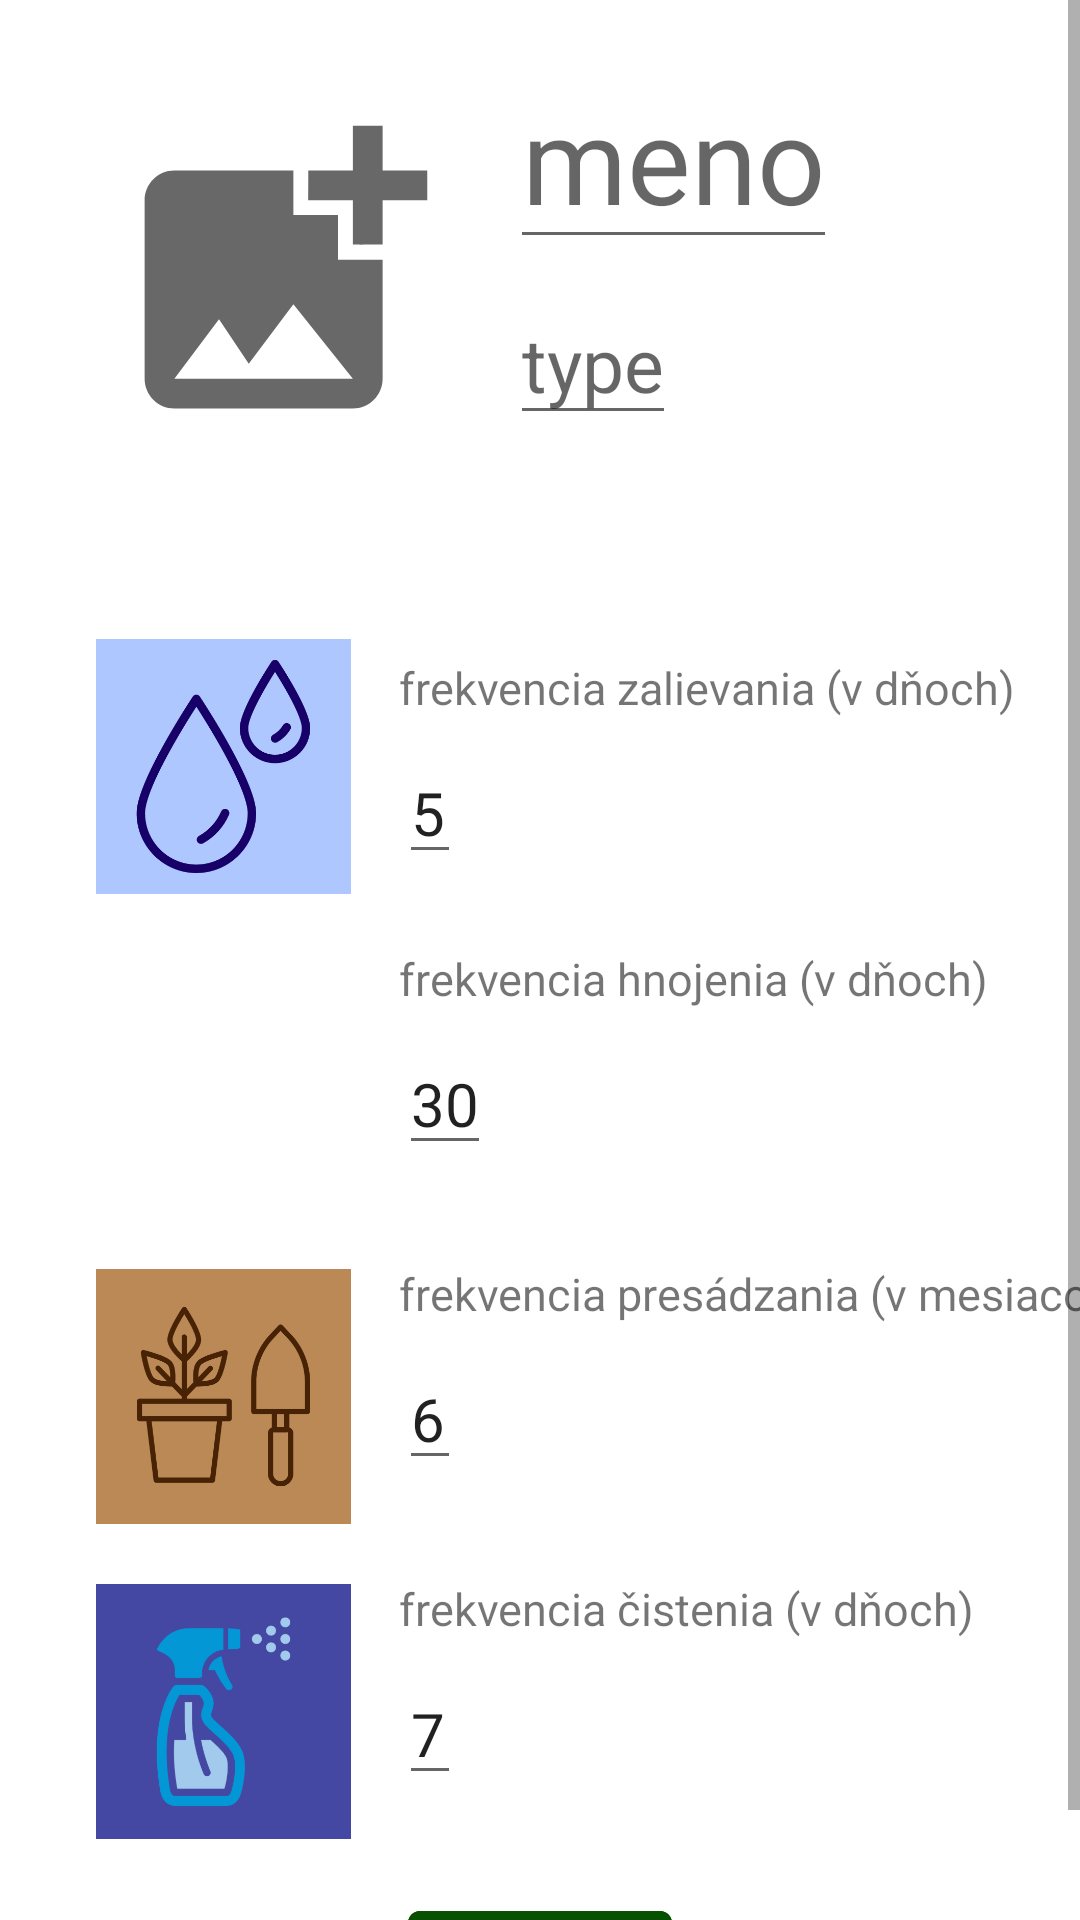

Point at icon controls on the screen. Image size 1080px x 1920px, points as point (x, y).
add photo alternate: point (286, 267)
clean: point (223, 1711)
repot: point (223, 1396)
water: point (223, 766)
